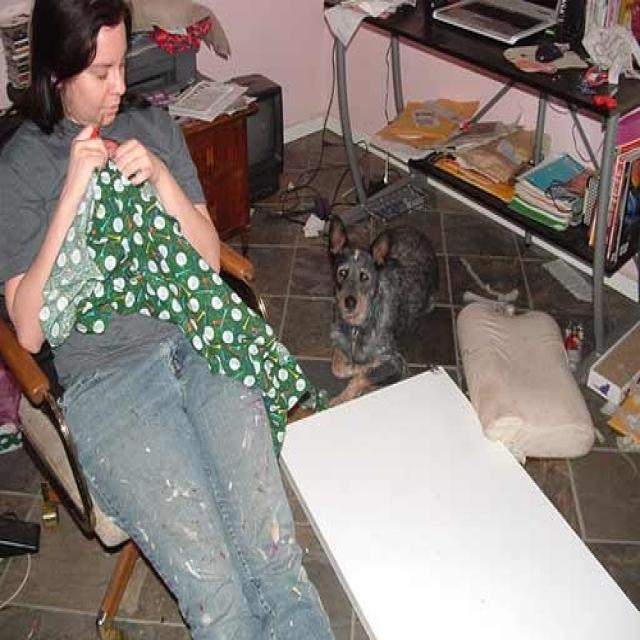chair: (2, 206, 290, 635)
dog: (329, 210, 444, 404)
